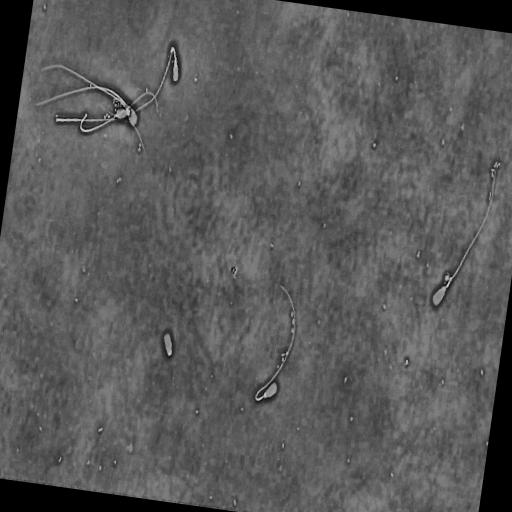folded-tail: (255, 285, 295, 401), (127, 46, 177, 115)
loose-head: (162, 329, 174, 359)
loose-tail: (78, 90, 159, 135), (53, 114, 146, 150)
normal: (424, 152, 505, 313), (251, 280, 299, 414), (30, 82, 140, 129), (125, 42, 181, 120)
